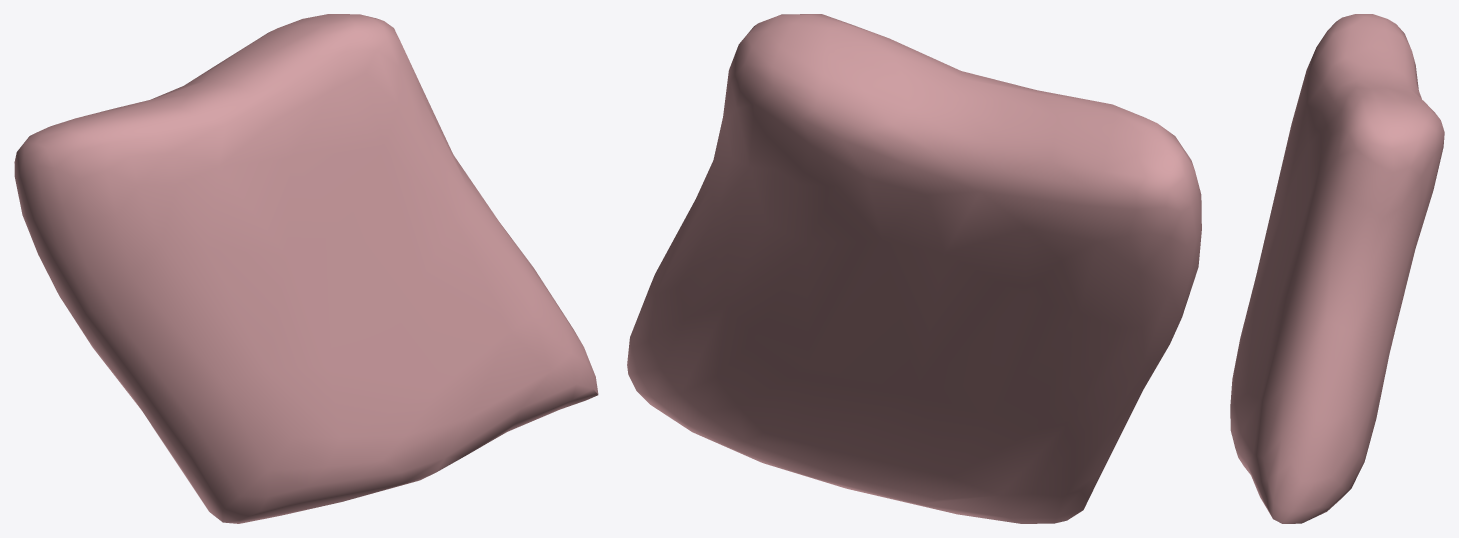
The model's file is fma275379_mm3368.glb.
3 views of the same model, side by side, from view 1: azimuth 30°, elevation 25°; view 2: azimuth 150°, elevation 25°; view 3: azimuth 270°, elevation 25° (orthographic). The views are drawn at different scales.
Parts seen in each view (by area): view 1: FMA275379_MM3368; view 2: FMA275379_MM3368; view 3: FMA275379_MM3368.
Boxes of the visible parts, x1,y1,x2,y2 form: FMA275379_MM3368: [14, 14, 598, 523]; FMA275379_MM3368: [627, 14, 1201, 523]; FMA275379_MM3368: [1230, 14, 1444, 523].
Bounding box in the file's own units: 0.0127 × 0.00987 × 0.0052.
